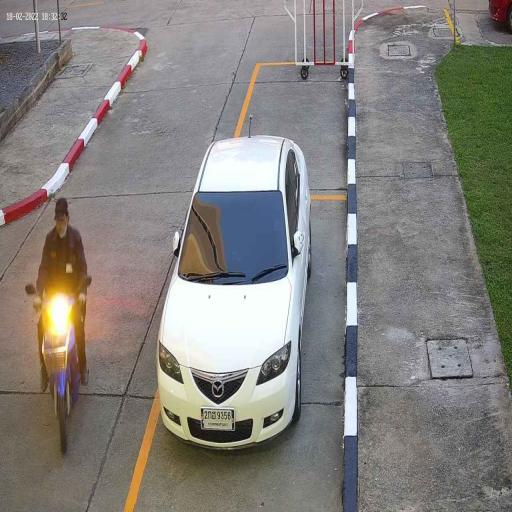car: (156, 134, 314, 454)
motorcycle: (30, 290, 84, 458)
